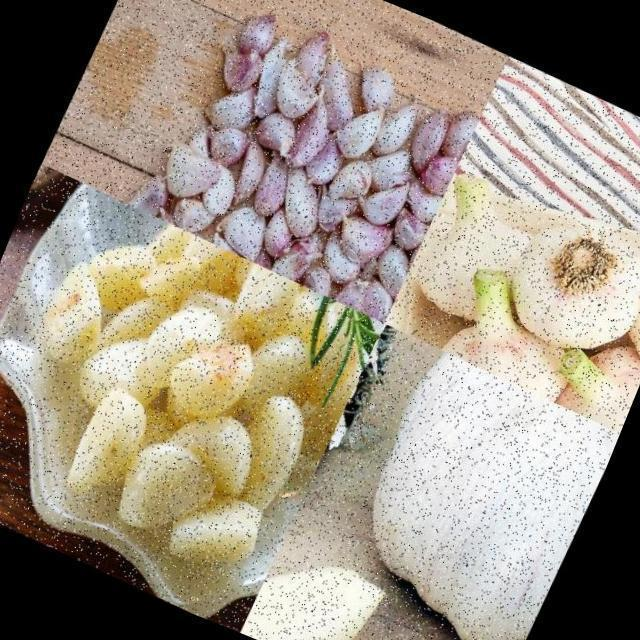garlic: (0, 182, 389, 594), (121, 0, 487, 326), (319, 341, 623, 640), (395, 163, 568, 348), (427, 251, 606, 406), (488, 199, 640, 375), (240, 536, 395, 640), (536, 312, 640, 432), (607, 221, 640, 369)
